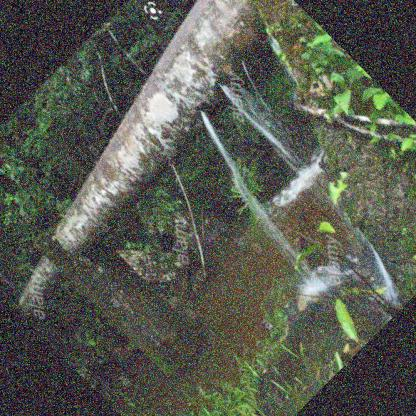burst: (185, 72, 248, 127)
